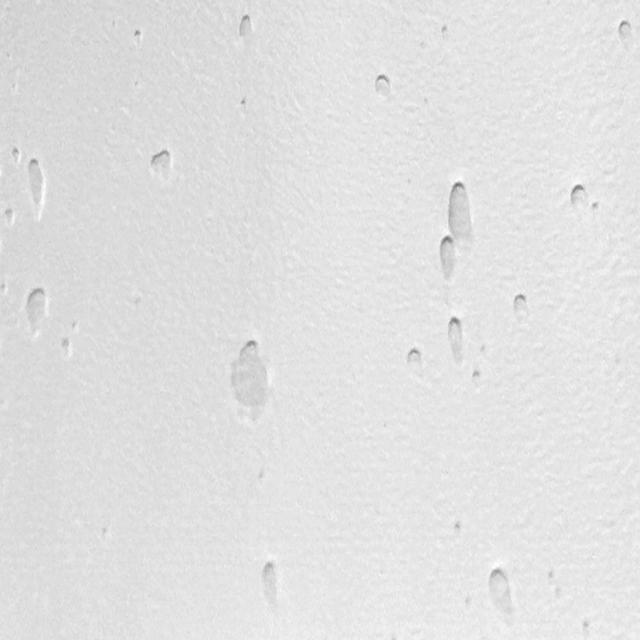pin holes: (228, 339, 275, 417), (481, 560, 515, 625), (445, 179, 475, 243), (22, 285, 52, 337), (23, 156, 50, 211), (443, 313, 471, 364), (257, 560, 286, 608), (148, 146, 178, 187), (434, 234, 458, 284), (512, 290, 534, 326), (371, 71, 396, 102), (568, 180, 592, 212), (235, 12, 258, 42), (404, 346, 426, 376), (616, 18, 637, 48), (128, 289, 148, 311), (1, 207, 18, 232), (451, 518, 470, 540), (132, 27, 148, 51), (58, 336, 74, 359), (471, 367, 485, 388), (439, 23, 453, 42), (546, 568, 559, 588), (99, 522, 112, 542), (10, 147, 23, 166), (580, 617, 593, 634), (238, 96, 251, 112), (591, 200, 603, 217), (464, 593, 476, 610), (68, 319, 80, 333), (0, 281, 9, 298)
